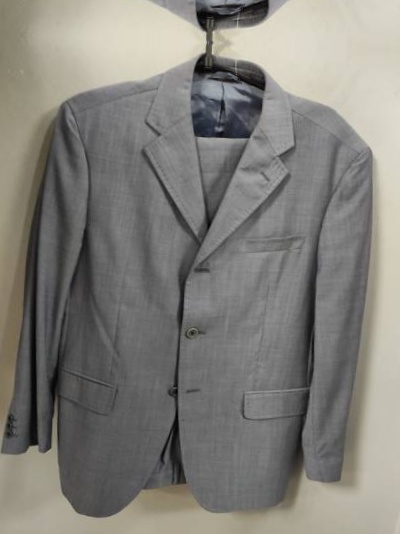Blazer: (2, 55, 391, 519), (22, 0, 400, 29), (0, 0, 0, 12)
